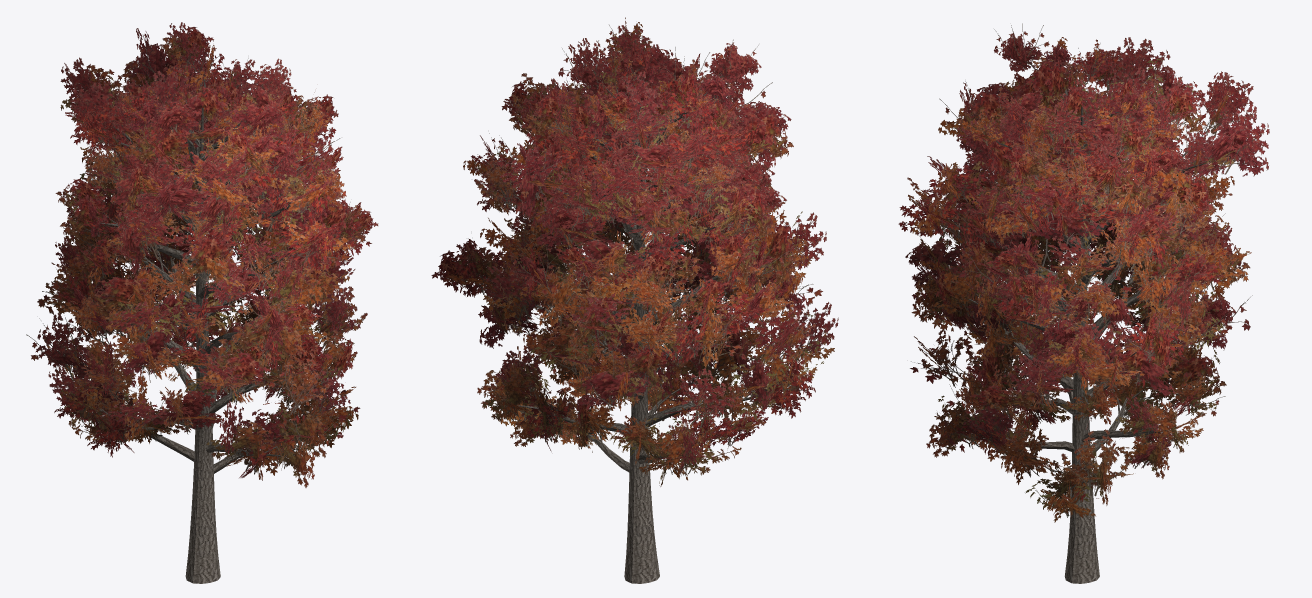
Rendered from liquidambar.glb.
3 views of the same model, side by side, from view 1: azimuth 30°, elevation 25°; view 2: azimuth 150°, elevation 25°; view 3: azimuth 270°, elevation 25° (orthographic).
Visible parts, largest first — view 1: LQ_Copa_Hojas, LQ_Tronco_Ramas; view 2: LQ_Copa_Hojas, LQ_Tronco_Ramas; view 3: LQ_Copa_Hojas, LQ_Tronco_Ramas.
Part boxes in pixels (<box>): LQ_Copa_Hojas: <box>26,22,378,487</box>; LQ_Tronco_Ramas: <box>98,60,337,583</box>; LQ_Copa_Hojas: <box>431,17,838,486</box>; LQ_Tronco_Ramas: <box>486,69,785,583</box>; LQ_Copa_Hojas: <box>898,23,1269,522</box>; LQ_Tronco_Ramas: <box>948,65,1209,583</box>.
Bounding box in the file's own units: 11.73 × 17.3 × 12.3.
2 materials, 2 textured.
